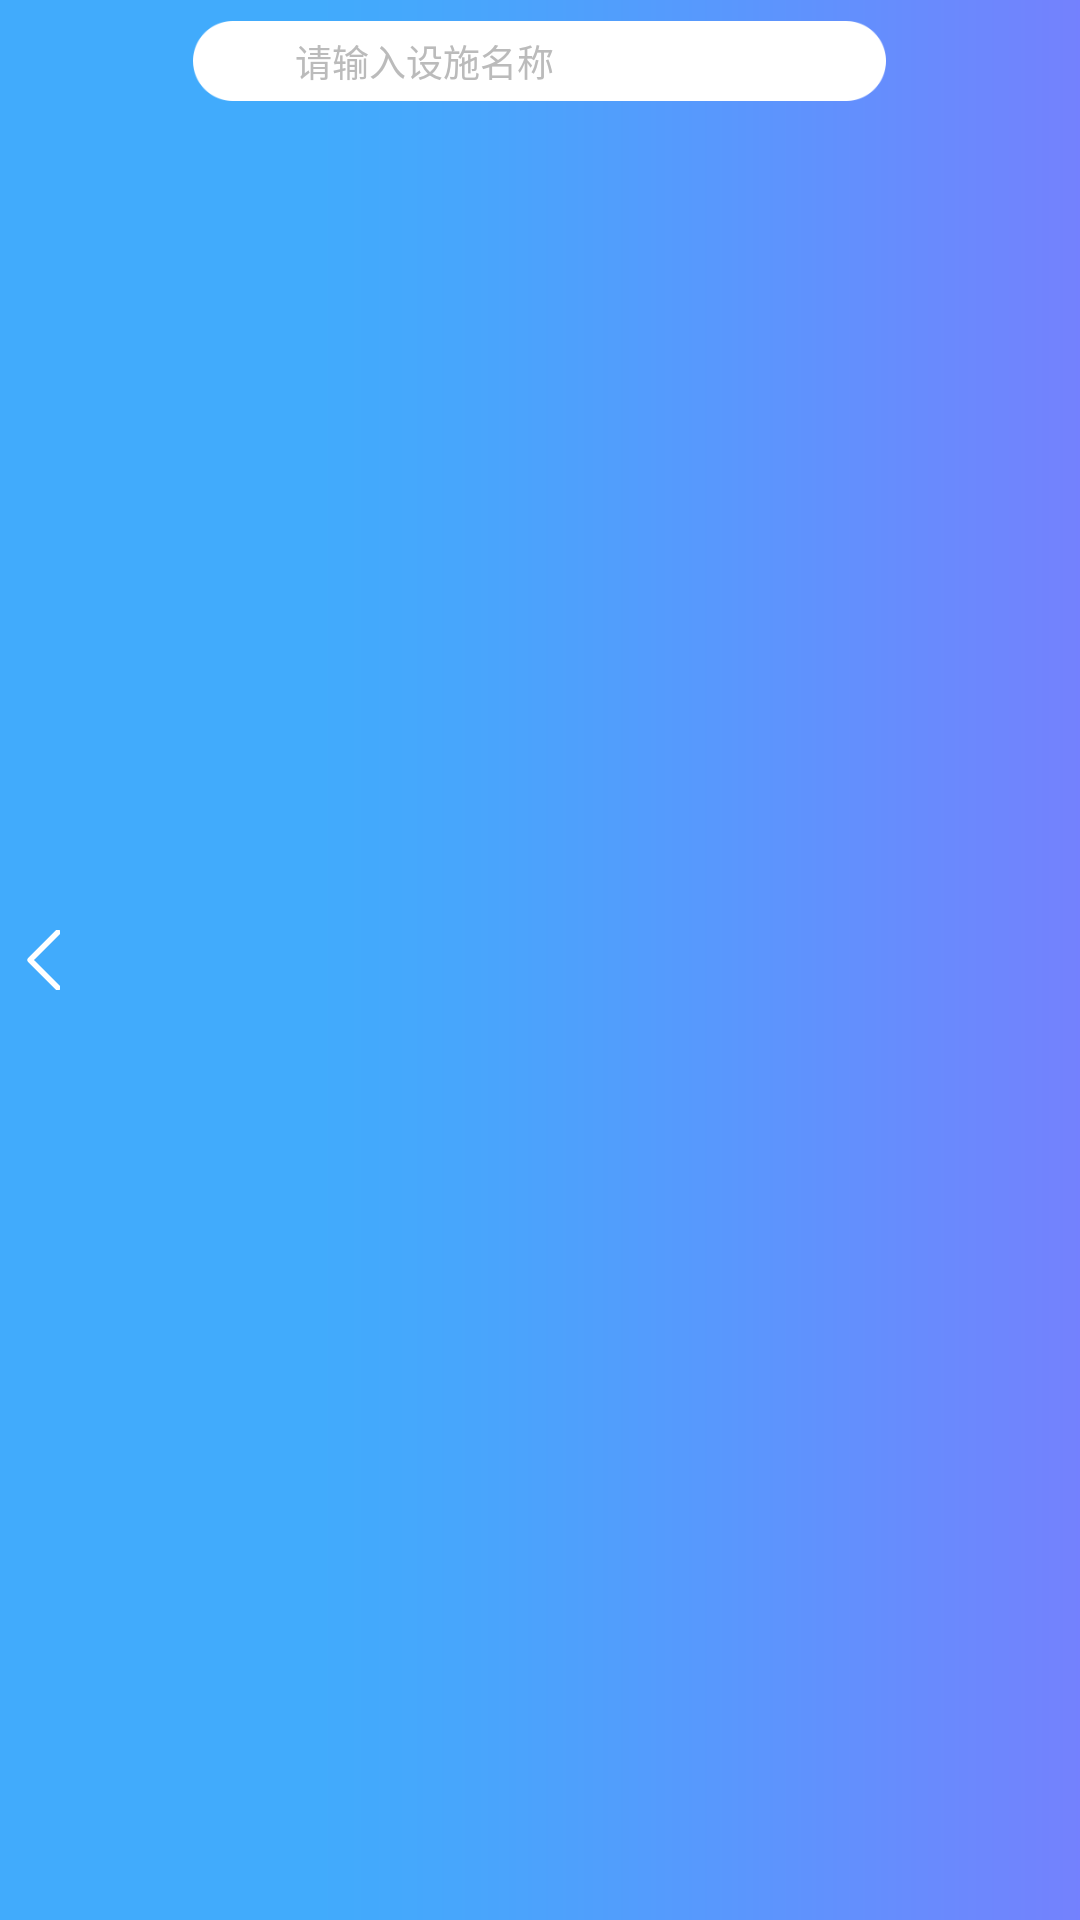

Screen size 1080w x 1920h. Icon name, then its center in pixels as (x=x, y=y):
return: (x=43, y=960)
